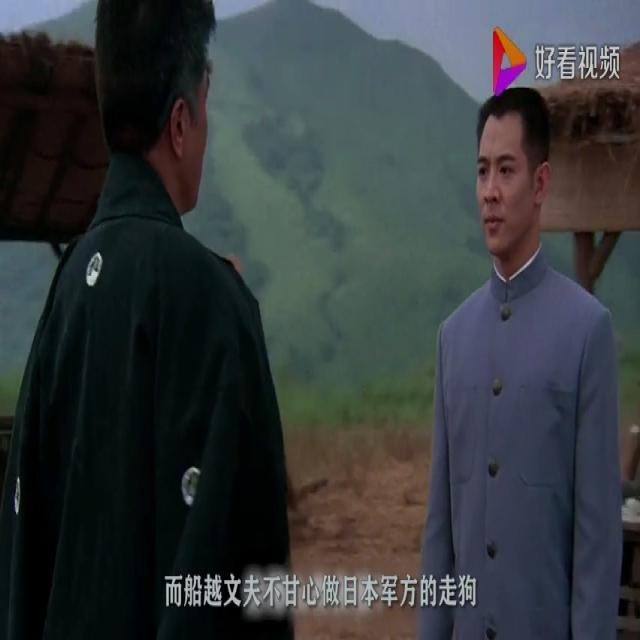non-fight: (0, 0, 311, 639), (407, 57, 639, 639)
